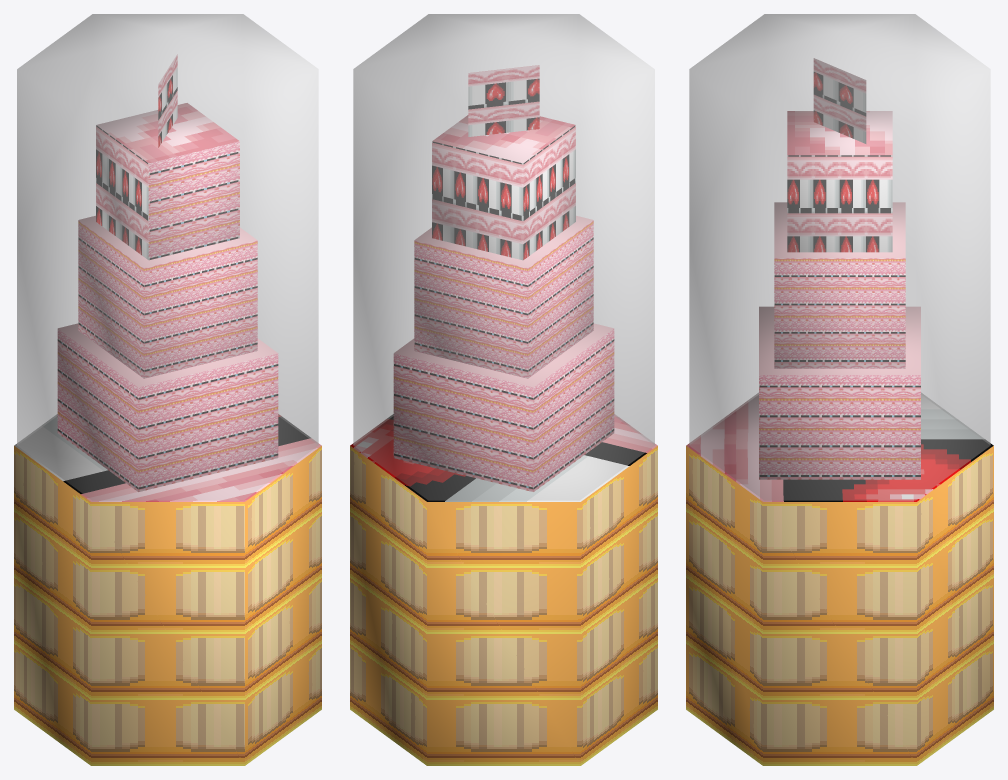
3 renders of one model, left to right at view 1: azimuth 30°, elevation 25°; view 2: azimuth 150°, elevation 25°; view 3: azimuth 270°, elevation 25°, orthographic.
Visible parts, largest first — view 1: 3785kg_sh1_08; view 2: 3785kg_sh1_08; view 3: 3785kg_sh1_08.
Part boxes in pixels (x1=…): 3785kg_sh1_08: x1=14, y1=14, x2=321, y2=765; 3785kg_sh1_08: x1=350, y1=14, x2=657, y2=765; 3785kg_sh1_08: x1=686, y1=14, x2=993, y2=765.
Size of the model in its own units: 0.7119 by 2 by 0.8223.
Materials: 4 (4 with a texture image).
